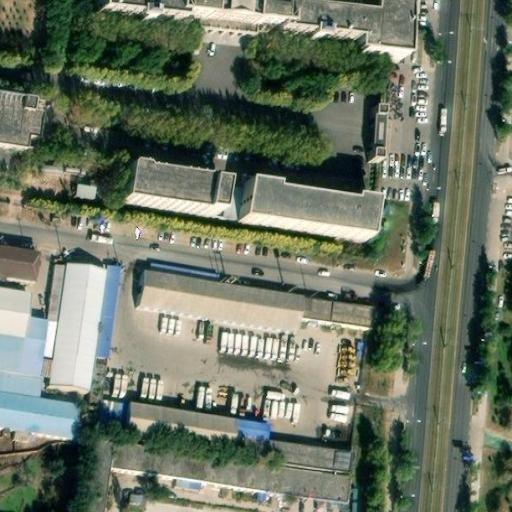building: (82, 427, 347, 512), (98, 0, 410, 54), (143, 270, 305, 334), (98, 400, 271, 453), (41, 261, 105, 390), (237, 184, 374, 244), (122, 165, 222, 217), (0, 287, 47, 378), (265, 440, 351, 476), (301, 293, 379, 328), (94, 267, 118, 362), (0, 243, 42, 281), (149, 260, 222, 281), (365, 100, 387, 162), (194, 19, 259, 36), (216, 186, 242, 225), (71, 177, 98, 199), (126, 487, 148, 504)
